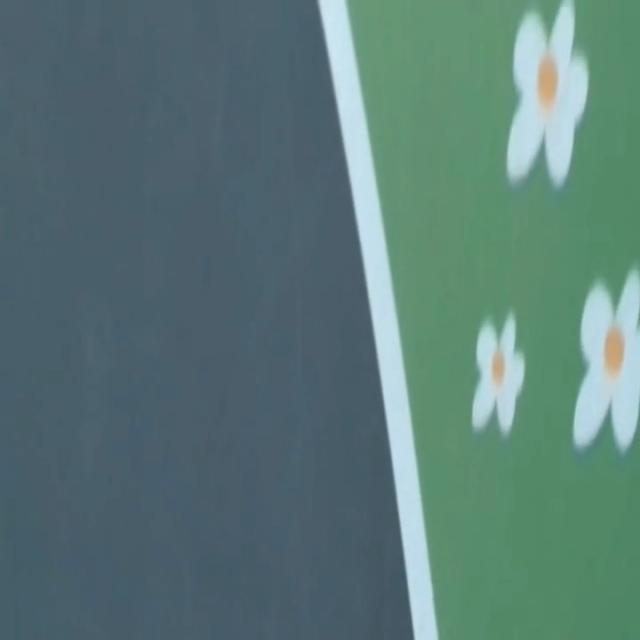right: (318, 0, 437, 639)
